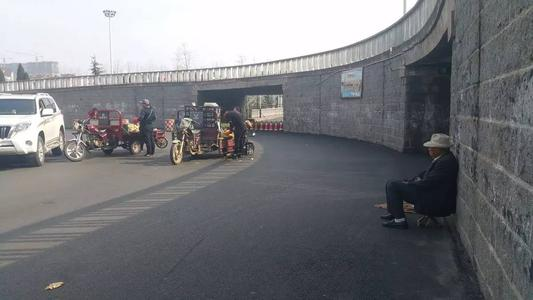vendors: (168, 101, 255, 165), (63, 106, 143, 161)
